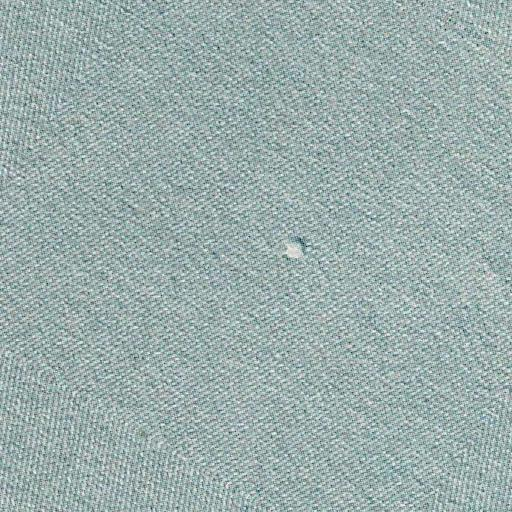knot: (274, 228, 318, 268)
